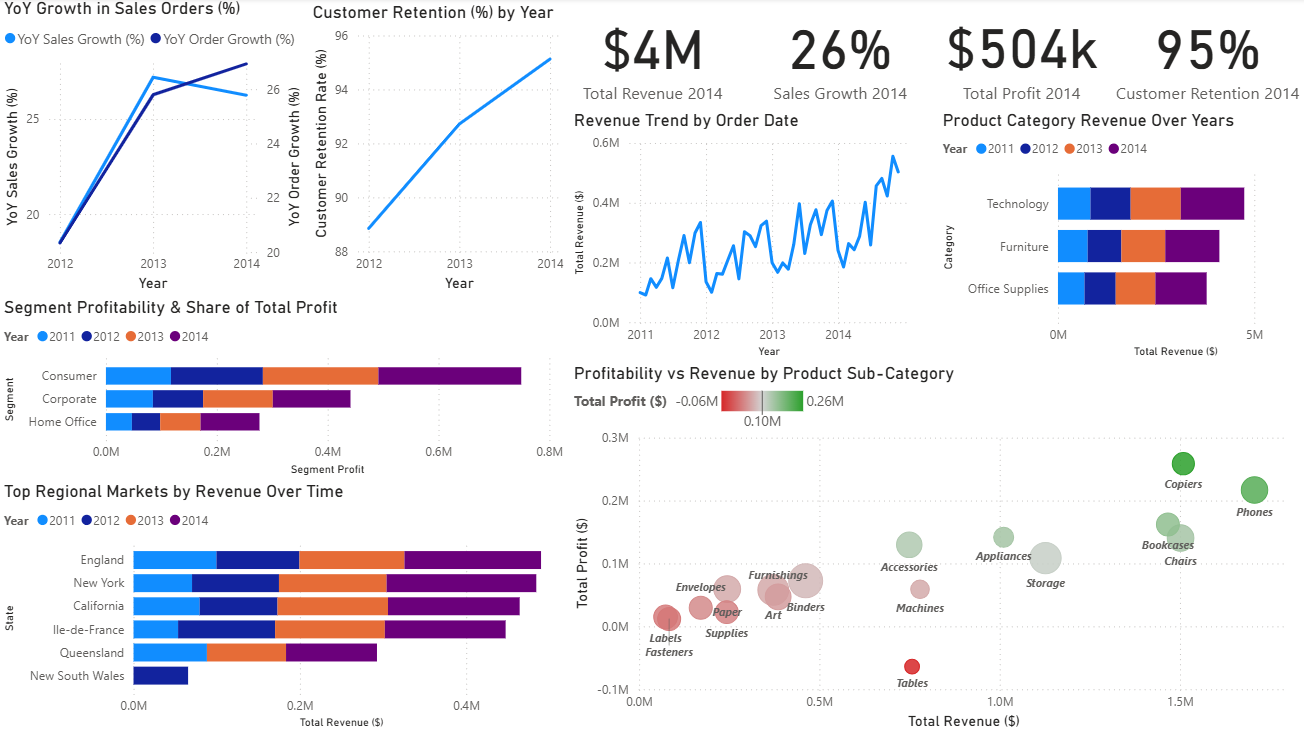

The page's visual inventory and layout, read from the dashboard file:
{"tool":"powerbi","page":{"name":"Report","canvas":[1280,720],"ordinal":0},"visuals":[{"type":"lineChart","title":"YoY Growth in Sales  Orders (%)","fields":{"Category":["DimDate.Year"],"Y":["FactOrders.YoY Sales Growth (%)"],"Y2":["FactOrders.YoY Order Growth (%)"]},"box":[0,0,301.9,292.3],"z":0},{"type":"card","fields":{"Values":["DimCustomer.Customer Retention 2014 (%)"]},"box":[1084.1,0,196.2,108.4],"z":1000},{"type":"card","fields":{"Values":["FactOrders.Sales Growth 2014"]},"box":[730,2.7,186.6,104.3],"z":2000},{"type":"card","fields":{"Values":["FactOrders.Total Profit 2014"]},"box":[916.6,4.1,167.4,100.2],"z":3000},{"type":"lineChart","title":"Customer Retention (%) by Year","fields":{"Category":["DimDate.Year"],"Y":["DimCustomer.Customer Retention Rate by Year (%)"]},"box":[301.9,4.1,255.2,288.2],"z":4000},{"type":"barChart","title":"Segment Profitability & Share of Total Profit","fields":{"Category":["DimCustomer.Segment"],"Y":["FactOrders.Segment Profit"],"Series":["DimDate.Year"]},"box":[0,292.3,557.6,179.8],"z":5000},{"type":"barChart","title":"Product Category Revenue Over Years","fields":{"Category":["DimProduct.Category"],"Y":["FactOrders.Total Revenue ($)"],"Series":["DimDate.Year"]},"box":[918,108.4,362.3,248.4],"z":6000},{"type":"barChart","title":"Top Regional Markets by Revenue Over Time","fields":{"Category":["DimCustomer.State"],"Y":["FactOrders.Total Revenue ($)"],"Series":["DimDate.Year"]},"box":[0,472,557.6,248.2],"z":7000},{"type":"card","fields":{"Values":["FactOrders.Total Revenue 2014"]},"box":[557.1,4.1,164.7,101.5],"z":8000},{"type":"scatterChart","title":"Profitability vs Revenue by Product Sub-Category","fields":{"X":["FactOrders.Total Revenue ($)"],"Y":["FactOrders.Total Profit ($)"],"Category":["DimProduct.Sub-Category"],"Size":["Count(FactOrders.Order ID)"]},"box":[557.6,357.1,722.7,363.2],"z":9000},{"type":"lineChart","title":"Revenue Trend by Order Date","fields":{"Category":["DimDate.Date.Variation.Date Hierarchy.Year","DimDate.Date.Variation.Date Hierarchy.Quarter","DimDate.Date.Variation.Date Hierarchy.Month"],"Y":["FactOrders.Total Revenue ($)"]},"box":[557.1,108.4,340.3,248.4],"z":9001}]}

Visuals, with their boxes in screenshot pixels (x1, y1, x2, y2), scaled from the page's 1280x720 canvas onto the 1304x729 screenshot:
"YoY Growth in Sales  Orders (%)" lineChart: select_region(0, 0, 308, 296)
card - DimCustomer.Customer Retention 2014 (%): select_region(1104, 0, 1303, 110)
card - FactOrders.Sales Growth 2014: select_region(744, 3, 934, 108)
card - FactOrders.Total Profit 2014: select_region(934, 4, 1104, 106)
"Customer Retention (%) by Year" lineChart: select_region(308, 4, 568, 296)
"Segment Profitability & Share of Total Profit" barChart: select_region(0, 296, 568, 478)
"Product Category Revenue Over Years" barChart: select_region(935, 110, 1303, 361)
"Top Regional Markets by Revenue Over Time" barChart: select_region(0, 478, 568, 728)
card - FactOrders.Total Revenue 2014: select_region(568, 4, 735, 107)
"Profitability vs Revenue by Product Sub-Category" scatterChart: select_region(568, 362, 1303, 728)
"Revenue Trend by Order Date" lineChart: select_region(568, 110, 914, 361)
